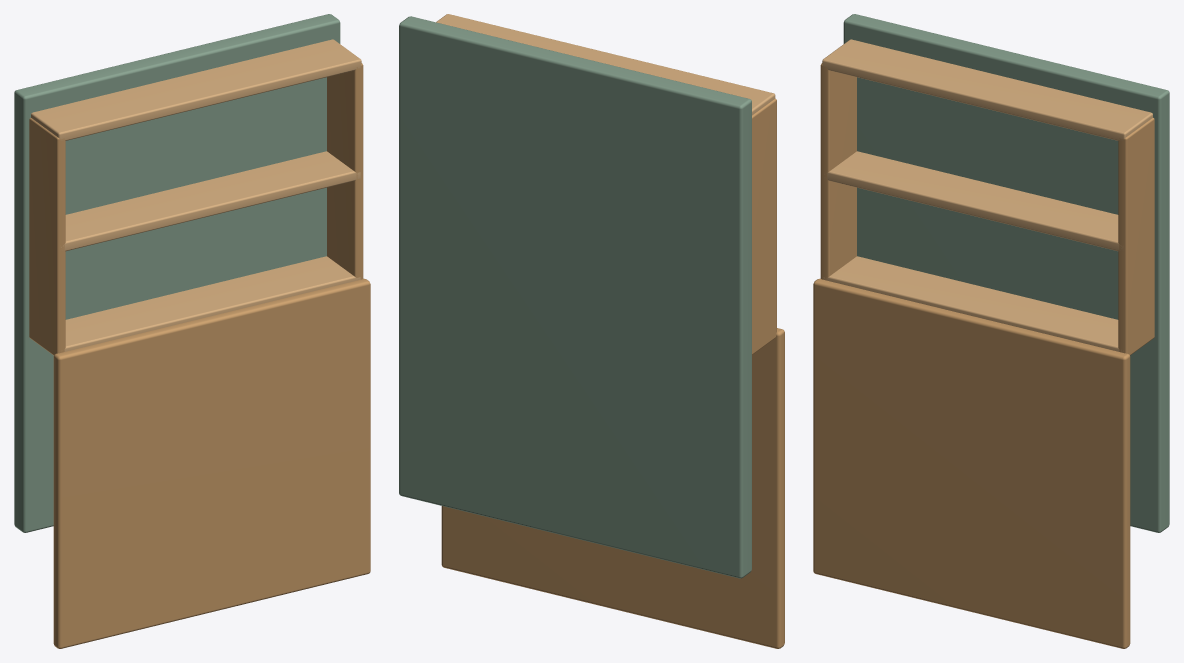
Rendered from wall-drop-leaf-table.glb.
3 renders of one model, left to right at view 1: azimuth 30°, elevation 25°; view 2: azimuth 150°, elevation 25°; view 3: azimuth 330°, elevation 25°, orthographic. The views are drawn at different scales.
Parts seen in each view (by area): view 1: wall-drop-leaf-table authored assembly; view 2: wall-drop-leaf-table authored assembly; view 3: wall-drop-leaf-table authored assembly.
Boxes of the visible parts, <box> form: wall-drop-leaf-table authored assembly: <box>14,14,370,648</box>; wall-drop-leaf-table authored assembly: <box>399,14,784,648</box>; wall-drop-leaf-table authored assembly: <box>813,14,1169,648</box>.
Size of the model in its own units: 0.74 by 1.18 by 0.175.
